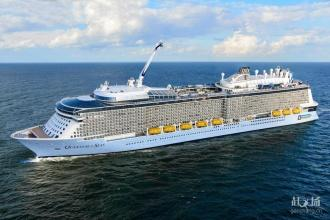youlun: (11, 39, 319, 160)
